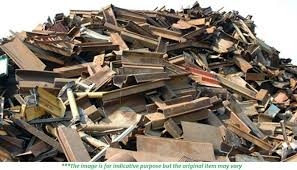metal: (129, 131, 217, 162), (99, 75, 168, 107), (1, 36, 52, 77), (10, 64, 86, 90), (50, 121, 94, 162), (228, 121, 284, 153), (157, 93, 217, 121), (76, 114, 140, 136), (116, 24, 166, 52), (120, 62, 173, 87), (118, 46, 168, 71), (62, 85, 88, 125), (228, 48, 262, 78), (249, 85, 273, 107)
